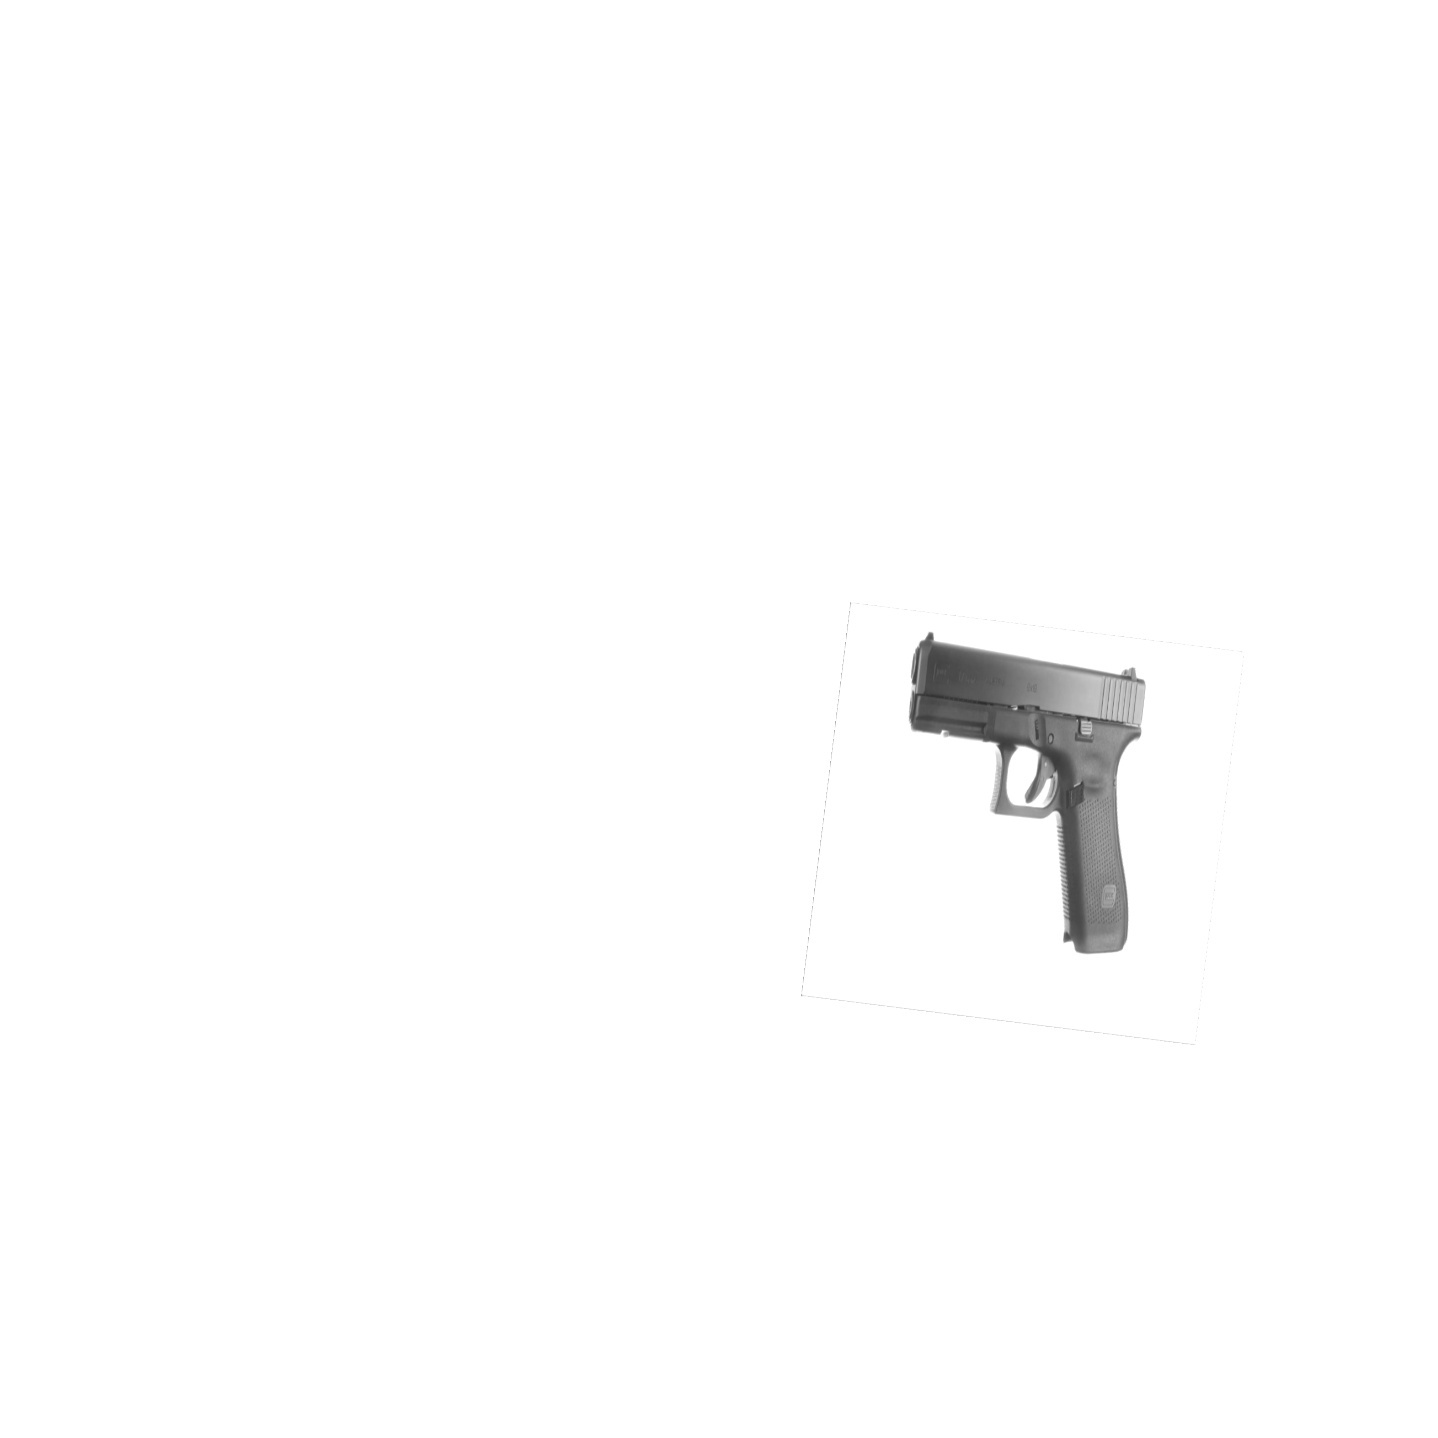gun: (905, 627, 1150, 957)
